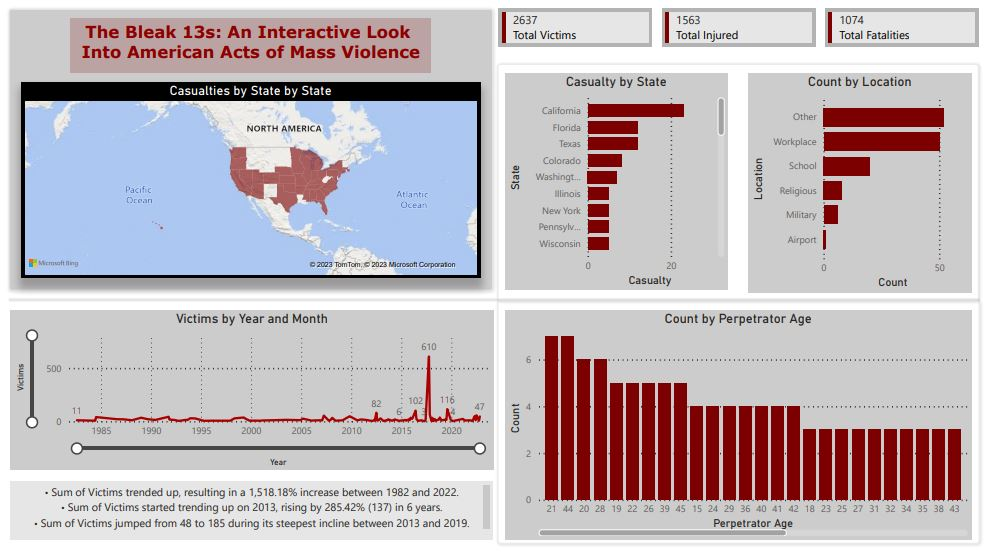

What the dashboard file says about the page in this screenshot:
{"tool":"powerbi","page":{"name":"Page 1","canvas":[1280,720],"ordinal":0},"visuals":[{"type":"shape","box":[13.8,376.2,1255,26.2],"z":0},{"type":"shape","box":[646,84,622,306],"z":1000},{"type":"shape","box":[13.8,12.5,626.2,363.8],"z":2000},{"type":"shape","box":[646.2,390,622.5,313.8],"z":3000},{"type":"barChart","fields":{"Category":["Table.LocationDesc"],"Y":["CountNonNull(Table.LocationDesc)"]},"box":[970,96.2,288.8,282.5],"z":4000},{"type":"barChart","fields":{"Category":["Table.State"],"Y":["CountNonNull(Table.State)"]},"box":[656.2,96.2,287.5,280],"z":5000},{"type":"lineChart","fields":{"Category":["Table.Date.Variation.Date Hierarchy.Year","Table.Date.Variation.Date Hierarchy.Month"],"Y":["Sum(Table.Victims)"]},"box":[16.2,402.5,625,206.2],"z":6000},{"type":"textbox","box":[16.2,622.5,623.8,76.2],"z":7000},{"type":"columnChart","fields":{"Category":["Table.PerpetratorAge"],"Y":["CountNonNull(Table.PerpetratorAge)"]},"box":[656.2,402.5,602.5,296.2],"z":8000},{"type":"multiRowCard","fields":{"Values":["Sum(Table.Fatalities)"]},"box":[1069,12,199,50],"z":9000},{"type":"multiRowCard","fields":{"Values":["Sum(Table.Injured)"]},"box":[858,12,199,50],"z":10000},{"type":"multiRowCard","fields":{"Values":["Sum(Table.Victims)"]},"box":[647,12,199,50],"z":11000},{"type":"filledMap","fields":{"Category":["Table.State"]},"box":[30,107.5,593.8,252.5],"z":12000},{"type":"textbox","box":[93.8,25,466.2,71.2],"z":13000}]}

Visuals, with their boxes in screenshot pixels (x1, y1, x2, y2), scaled from the page's 1280x720 canvas onto the 986x554 screenshot:
shape: (11,289,977,310)
shape: (498,65,977,300)
shape: (11,10,493,290)
shape: (498,300,977,542)
barChart - Table.LocationDesc x CountNonNull(Table.LocationDesc): (747,74,970,291)
barChart - Table.State x CountNonNull(Table.State): (505,74,727,289)
lineChart - Table.Date.Variation.Date Hierarchy.Year x Table.Date.Variation.Date Hierarchy.Month: (12,310,494,468)
textbox: (12,479,493,538)
columnChart - Table.PerpetratorAge x CountNonNull(Table.PerpetratorAge): (505,310,970,538)
multiRowCard - Sum(Table.Fatalities): (823,9,977,48)
multiRowCard - Sum(Table.Injured): (661,9,814,48)
multiRowCard - Sum(Table.Victims): (498,9,652,48)
filledMap - Table.State: (23,83,481,277)
textbox: (72,19,431,74)
